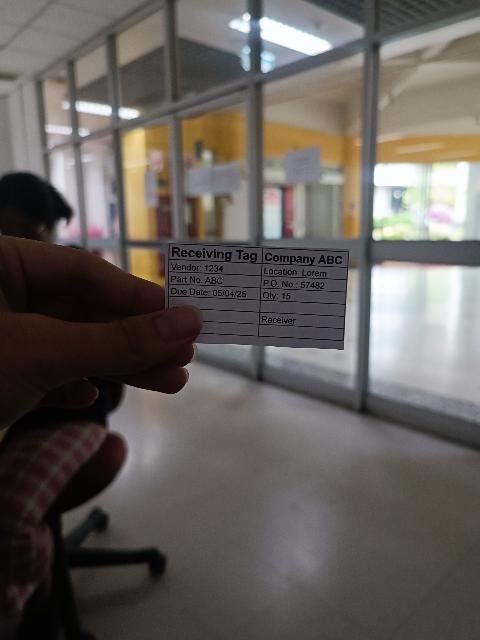PO no: (259, 275, 347, 293)
part no: (168, 272, 261, 288)
qty: (261, 289, 346, 304)
tags: (164, 244, 349, 350)
